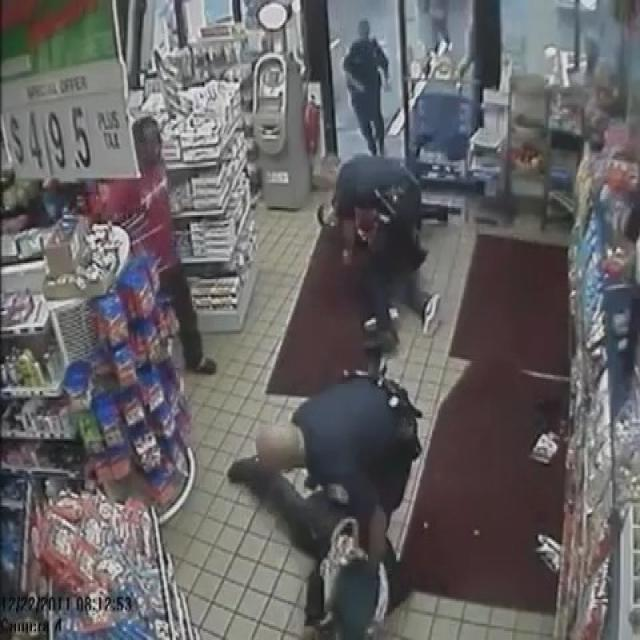fight: (221, 334, 440, 640), (264, 107, 476, 340)
